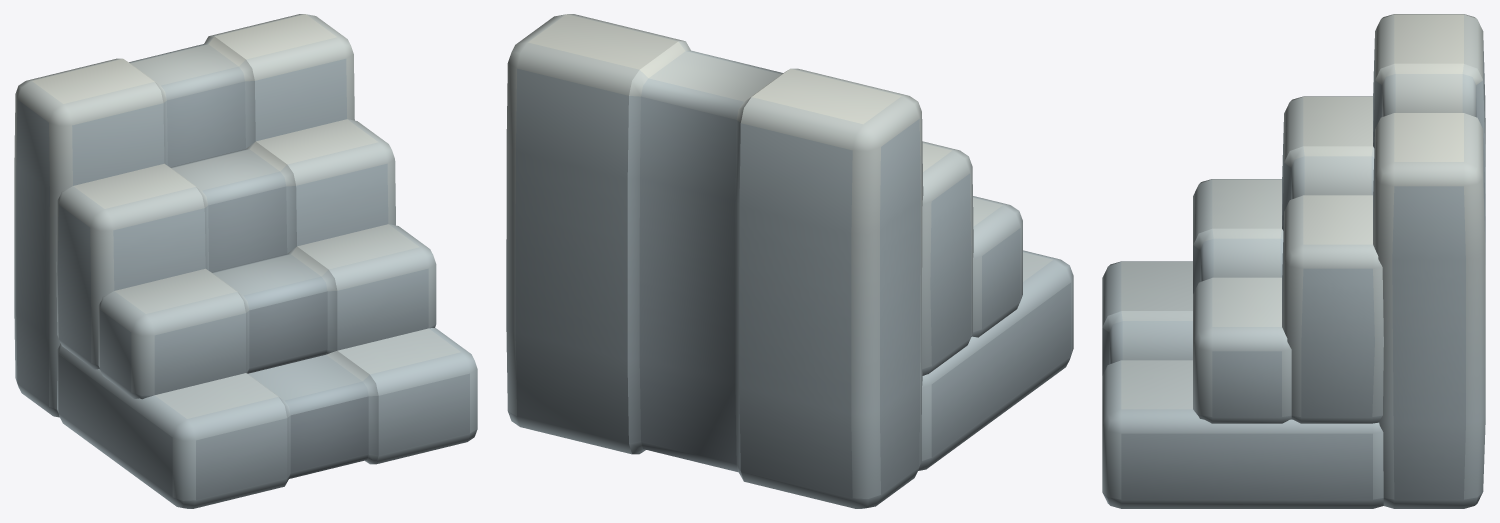
The model's file is Quartz_Free_Stair.fbx.
3 views of the same model, side by side, from view 1: azimuth 30°, elevation 25°; view 2: azimuth 150°, elevation 25°; view 3: azimuth 270°, elevation 25° (orthographic). The views are drawn at different scales.
Visible parts, largest first — view 1: Quartz_Free_Stair_LOD0; view 2: Quartz_Free_Stair_LOD0; view 3: Quartz_Free_Stair_LOD0.
Part boxes in pixels (x1,y1,x2,y2): Quartz_Free_Stair_LOD0: [14, 14, 477, 508]; Quartz_Free_Stair_LOD0: [506, 14, 1073, 508]; Quartz_Free_Stair_LOD0: [1102, 14, 1485, 508].
Size of what is drawn, in the model's own units: 1.06 by 1.05 by 1.05.
